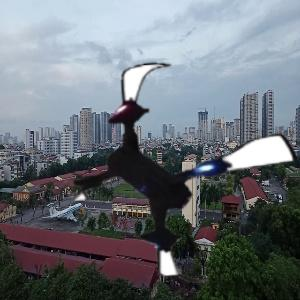drone: (61, 51, 299, 289)
